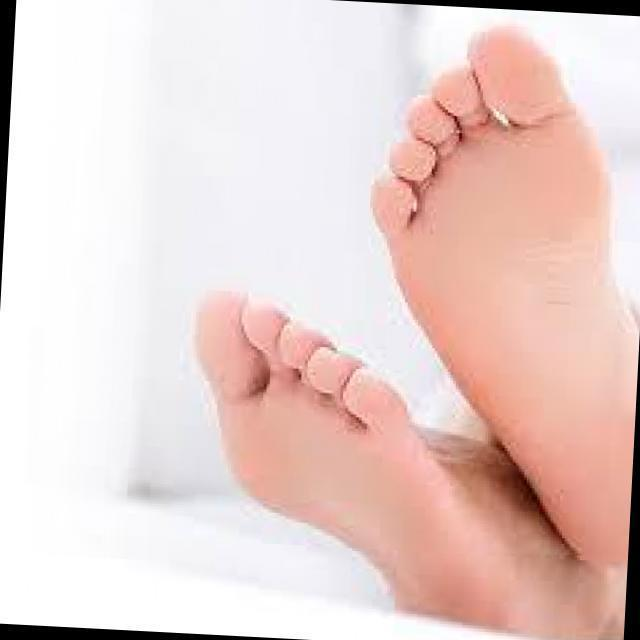No_Shoes: (333, 23, 640, 579), (164, 273, 480, 640)
